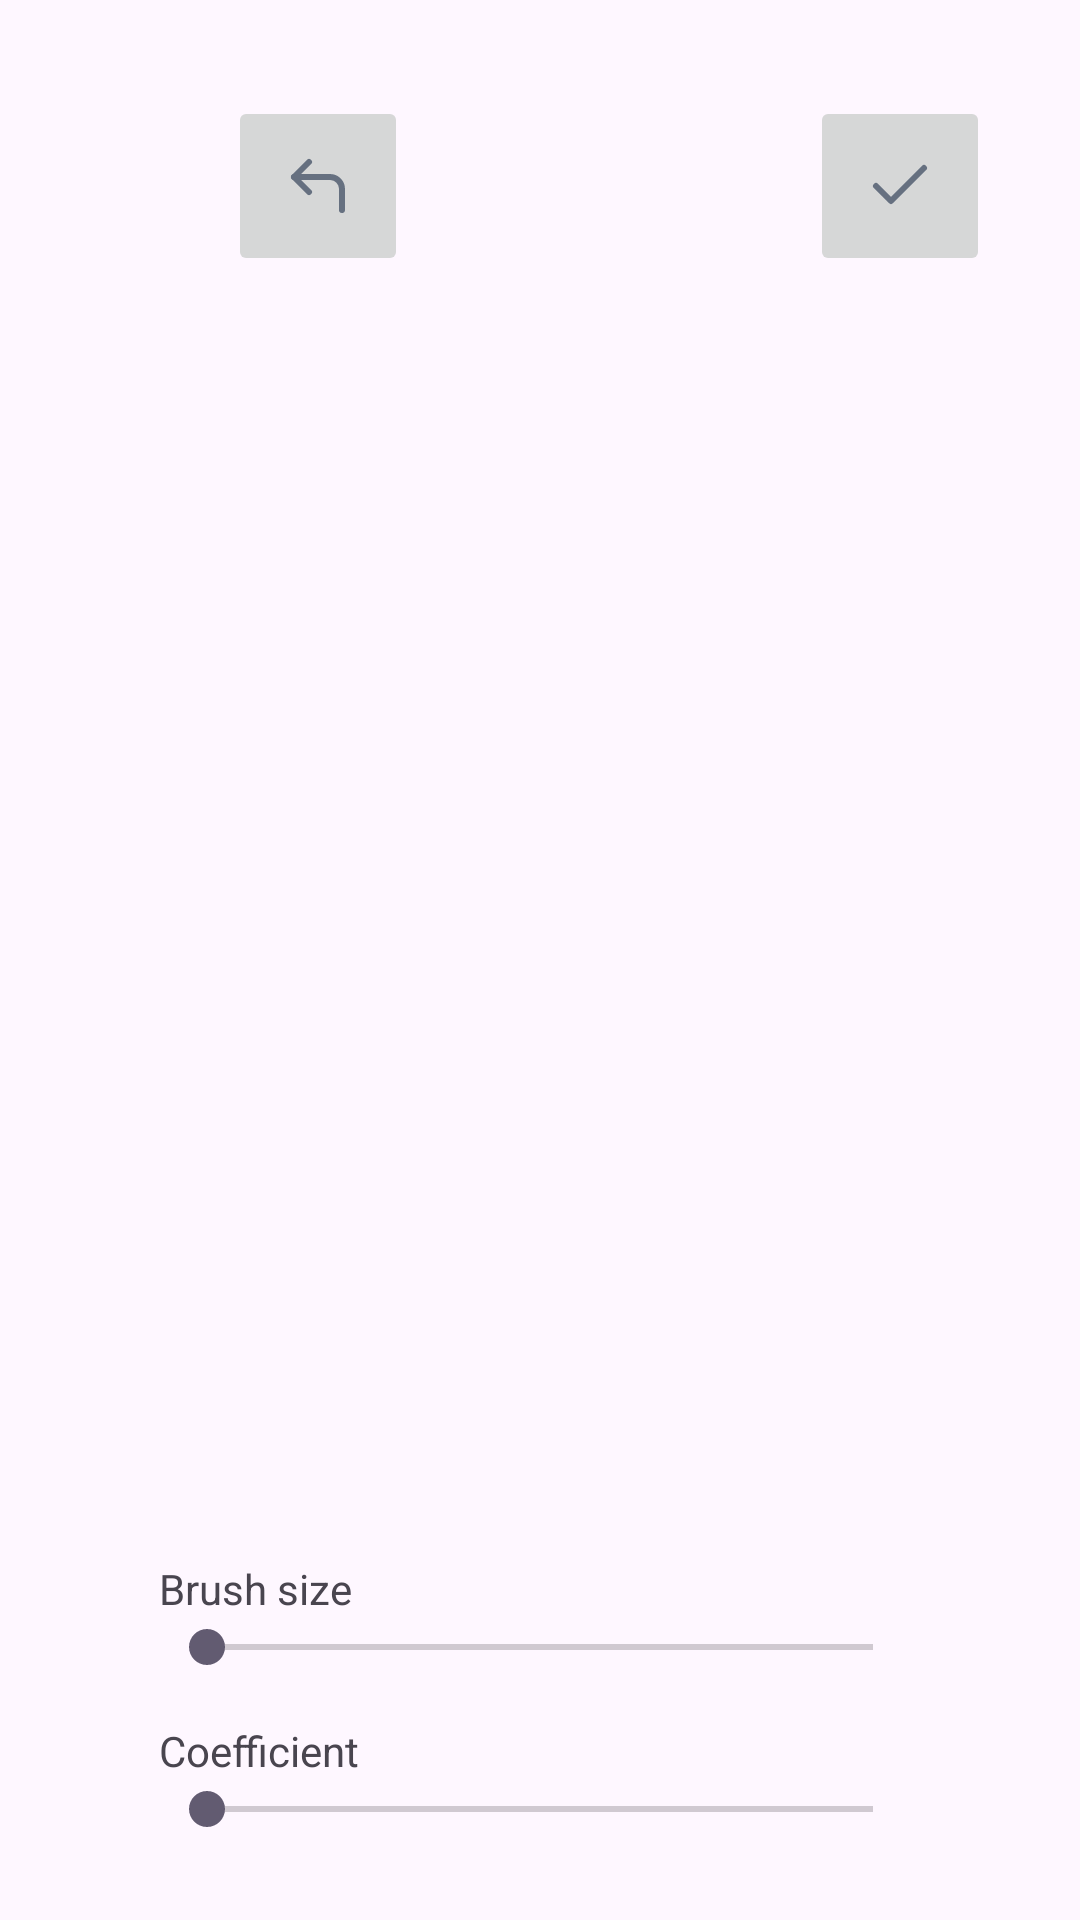

Where icons sit on this 1080px x 1920px app screen, as (x1, y1, x2, y2):
check: (822, 114, 978, 258)
corner up left: (240, 114, 396, 258)
